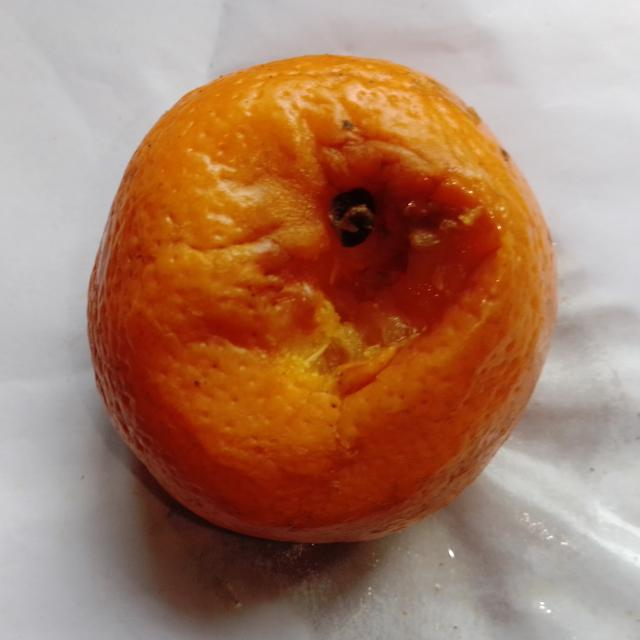orange: (89, 56, 555, 542)
